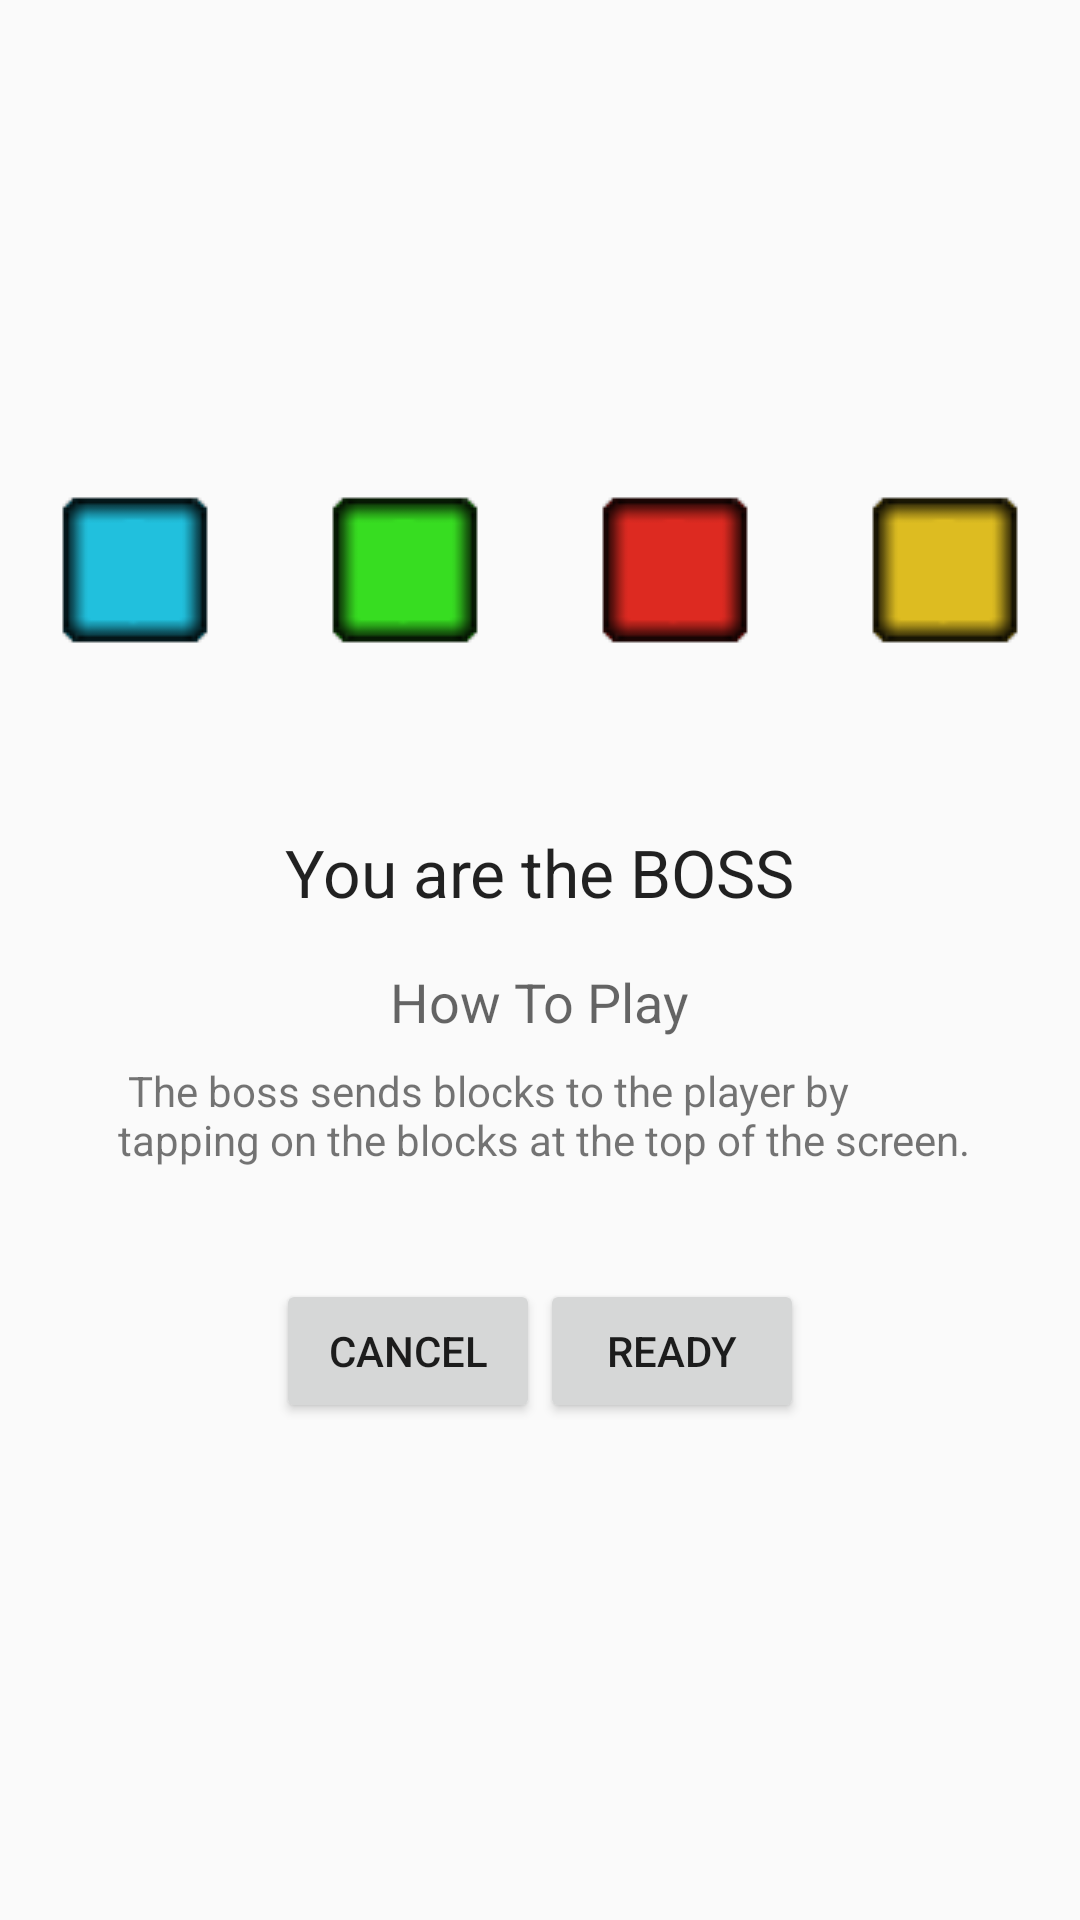

Locate icon controls on the screen. Image size 1080 × 1920, boxes as (x1, y1, x2, y2).
brick: (62, 497, 208, 643), (332, 497, 478, 643), (602, 497, 748, 643), (872, 497, 1018, 643)
